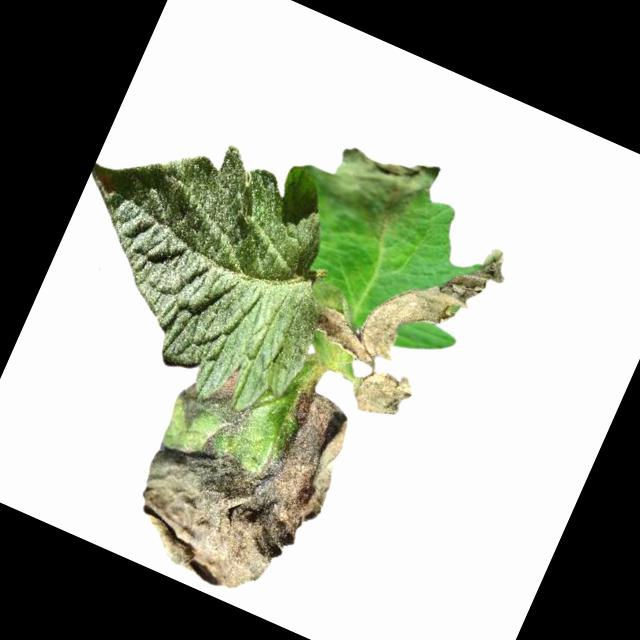Late_blight: (109, 336, 366, 616), (303, 191, 517, 406), (294, 118, 442, 246), (339, 355, 419, 429), (295, 344, 352, 397)
healthy: (27, 97, 372, 429)
